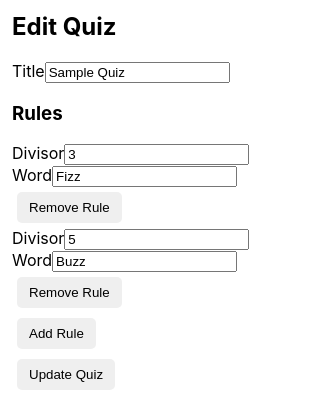
Test: EditQuizPage › removes a rule
Expected: the heading "Rules" is shown, [12,102,63,124]
Click the 1st button "Remove Rule": click(69, 208) [17,192,122,223]
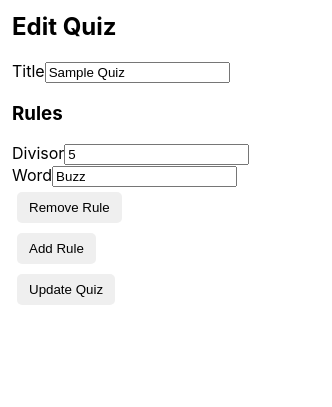
Result: the number of number fields labelled "Divisor" is 1 at [64,144,249,165]
Result: the number of fields labelled "Word" is 1 at [52,166,237,187]
